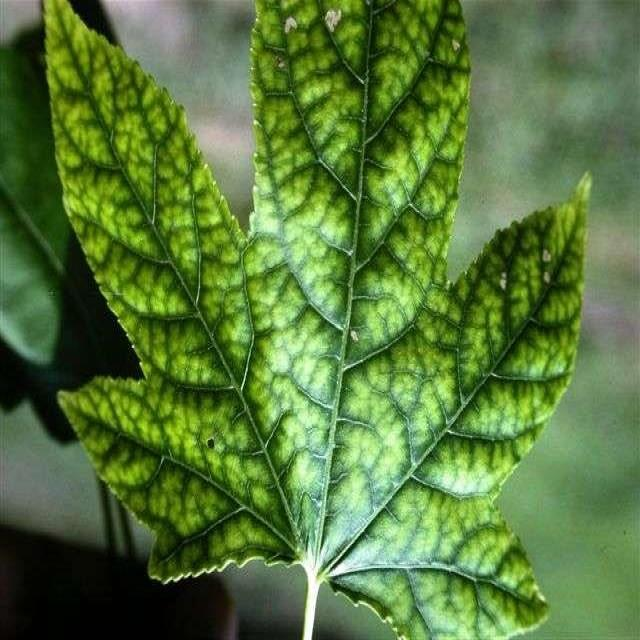Chlorosis: (35, 4, 593, 627)
